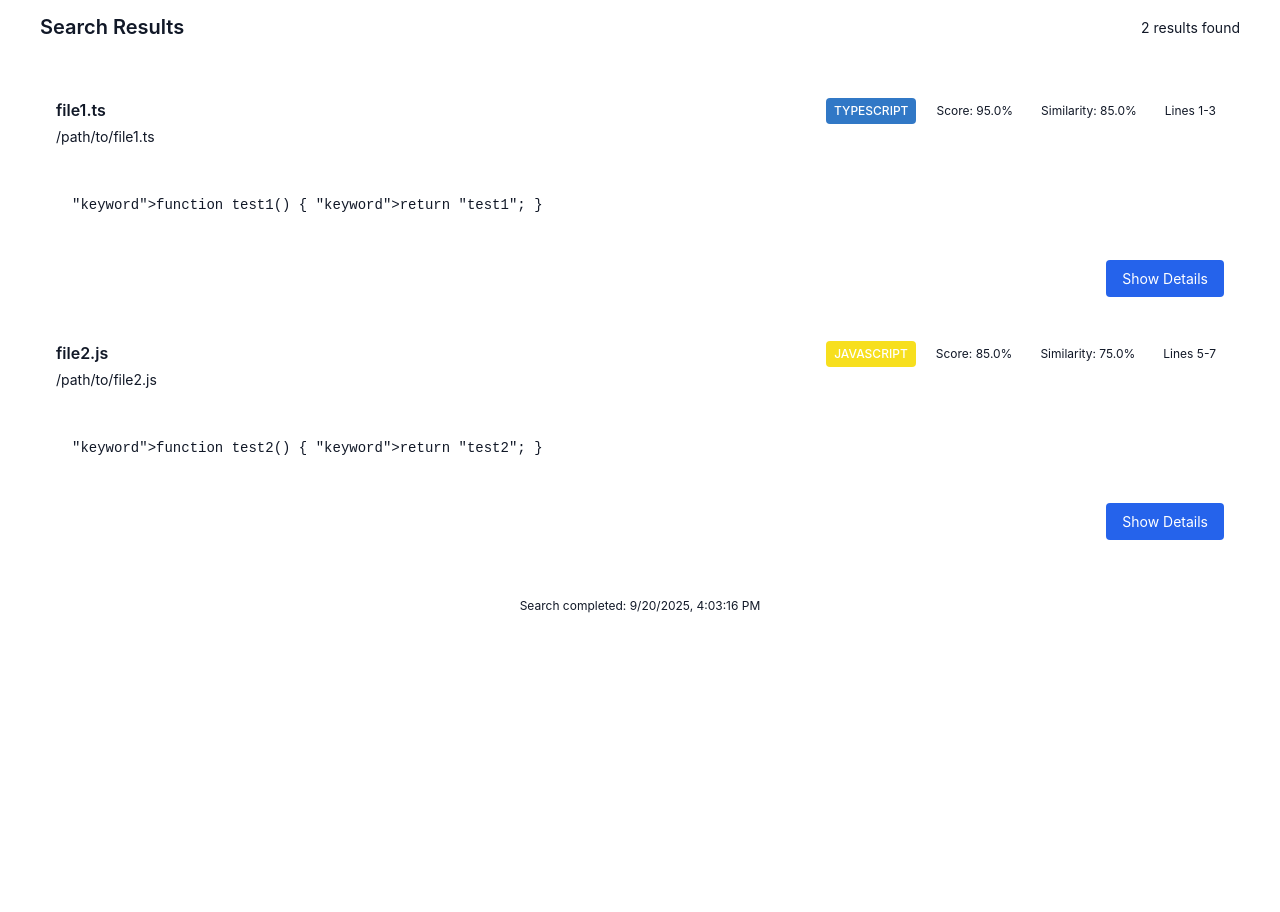
it: SearchResults › toggles result details when Show Details button is clicked
Click the button "Show Details" below "typescript". click: (1165, 278)
box: [1106, 260, 1224, 297]
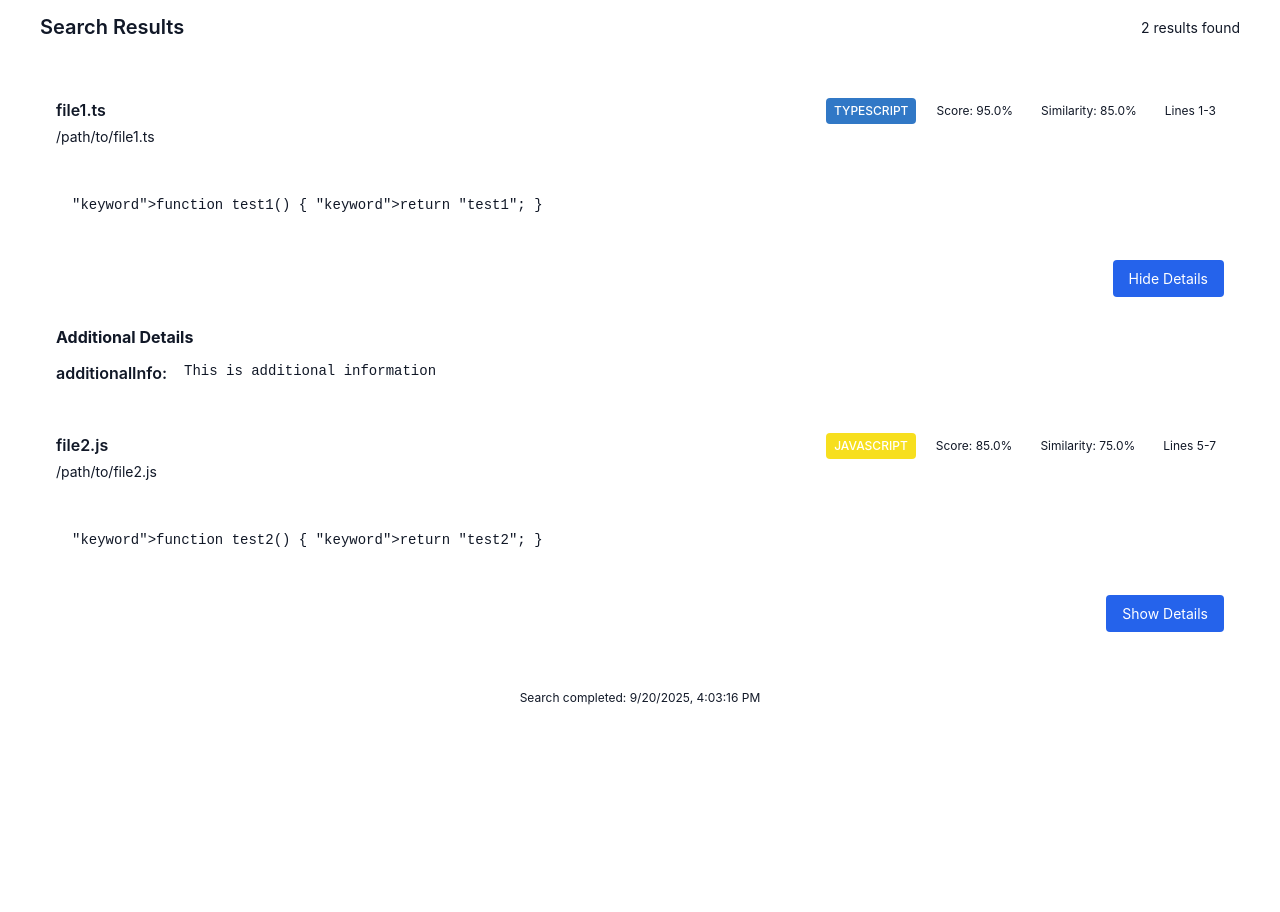
Check: the button "Hide Details" is shown, box [1113, 260, 1224, 297]
Check: the heading "Additional Details" is shown, box [56, 327, 193, 347]
Check: the text "additionalInfo:" is shown, box [56, 361, 176, 385]
